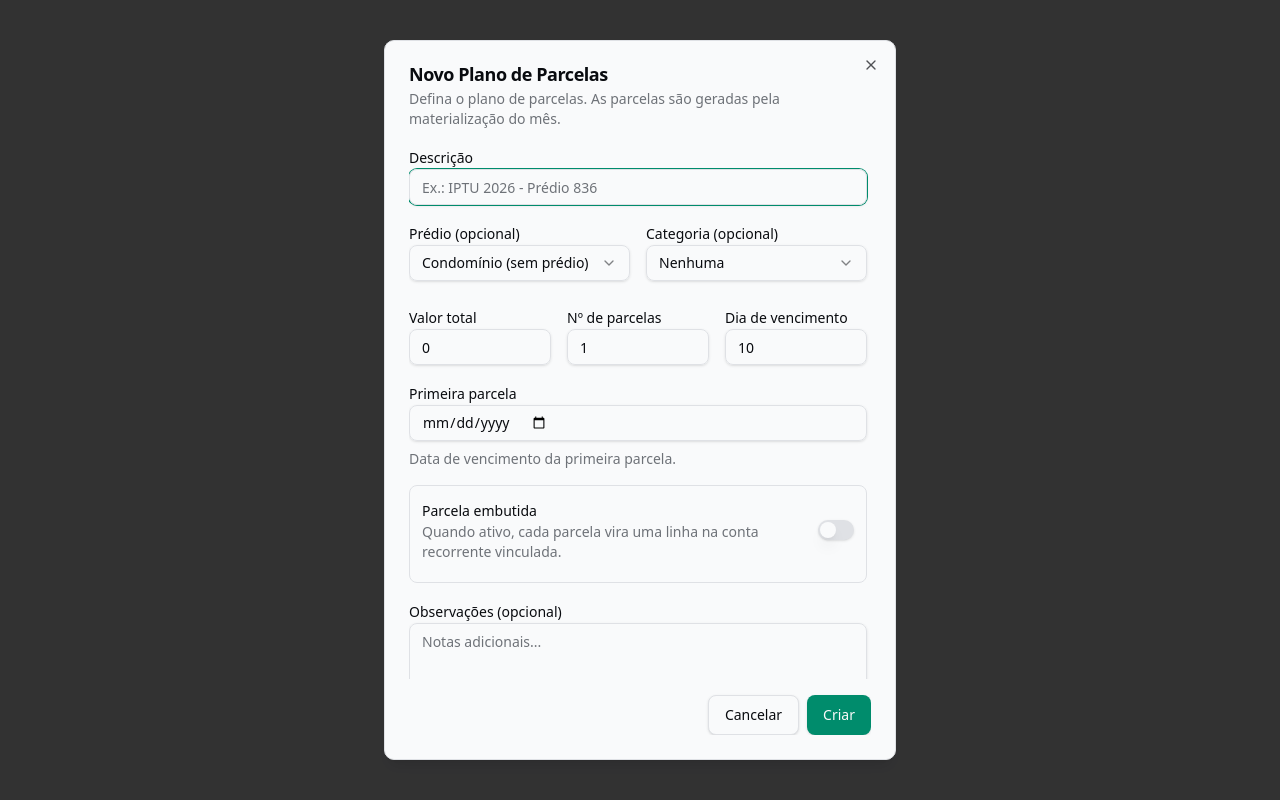
InstallmentPlanFormModal › reveals and requires the billing account when embedded is on
The width and height of the screenshot is (1280, 800).
Step 1. Type "Parcela embutida" into the field labelled "Descrição" → [638, 187], box top-left (409, 169), bottom-right (867, 205)
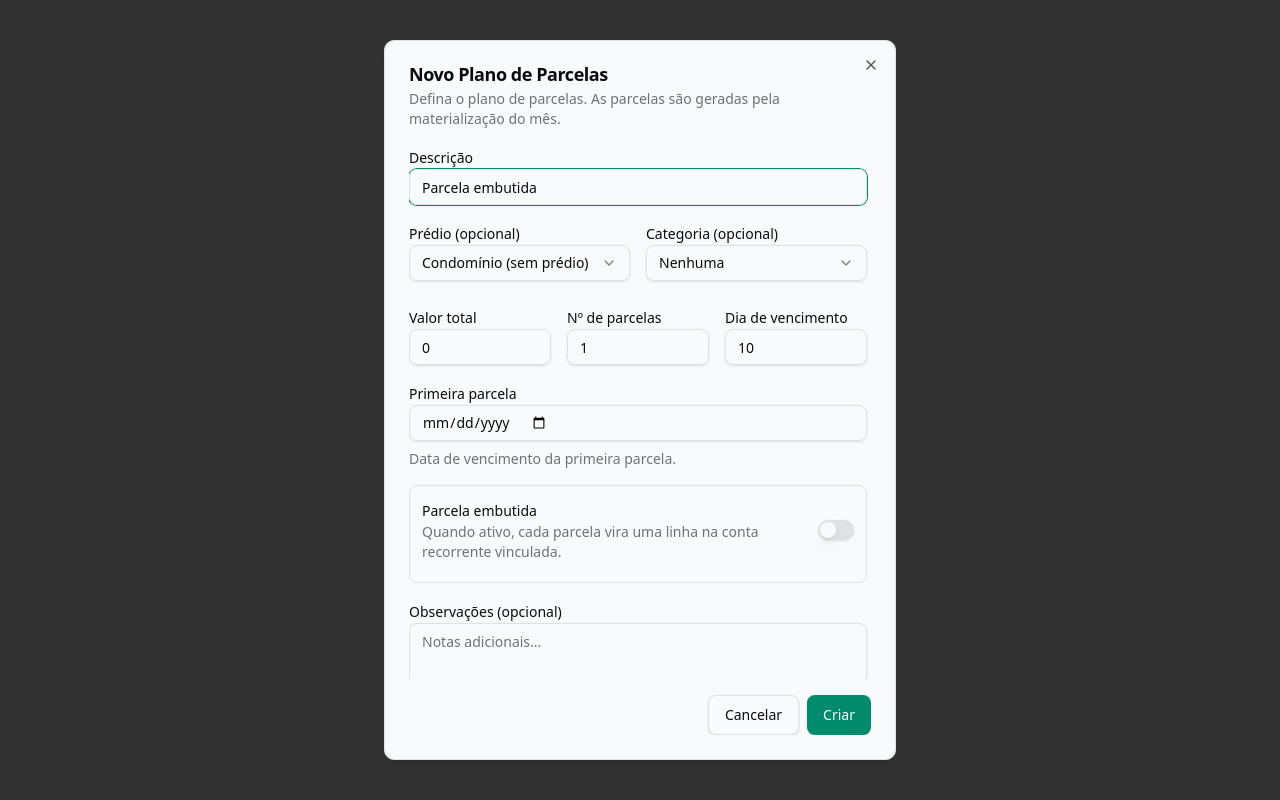
Step 2. Type "2026-07-10" into the date field labelled "Primeira parcela" → [638, 423], box top-left (409, 405), bottom-right (867, 441)
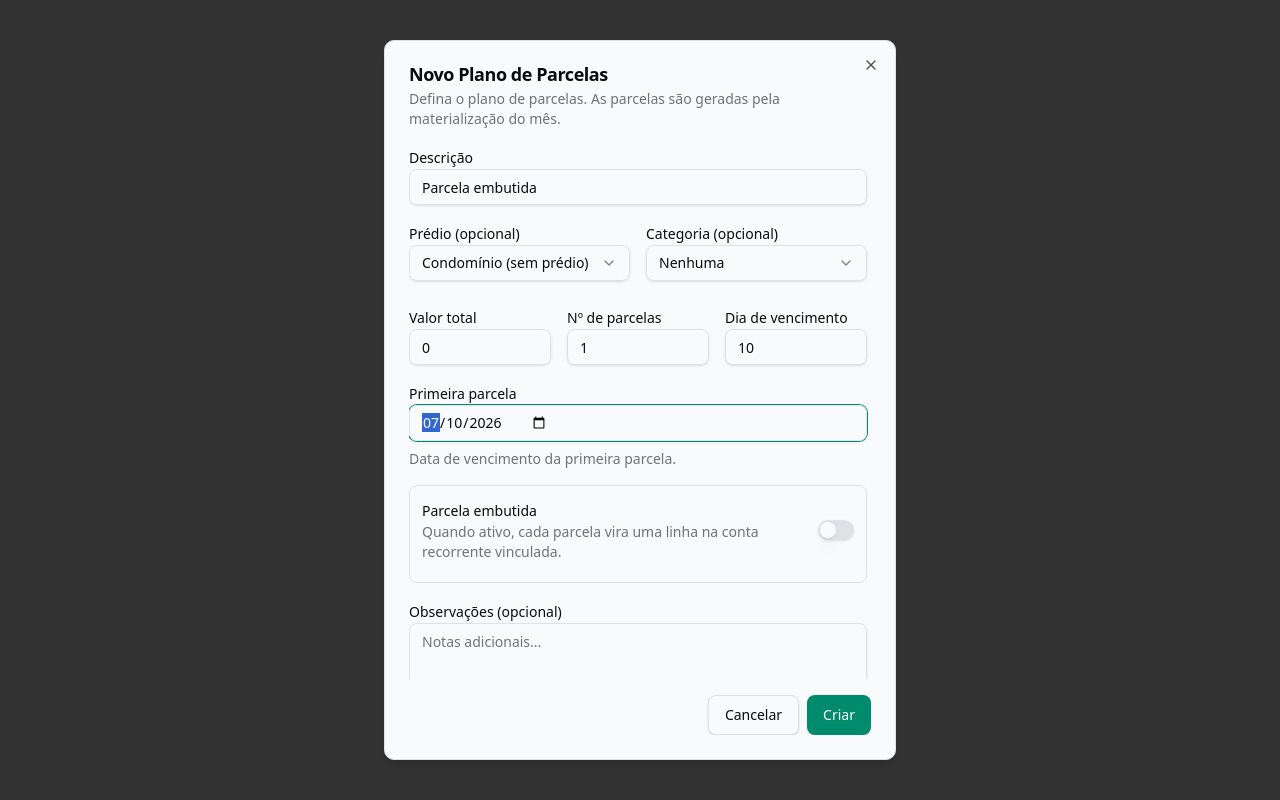
Step 3. Click the switch named "Parcela embutida" → [836, 530], box top-left (818, 520), bottom-right (854, 540)
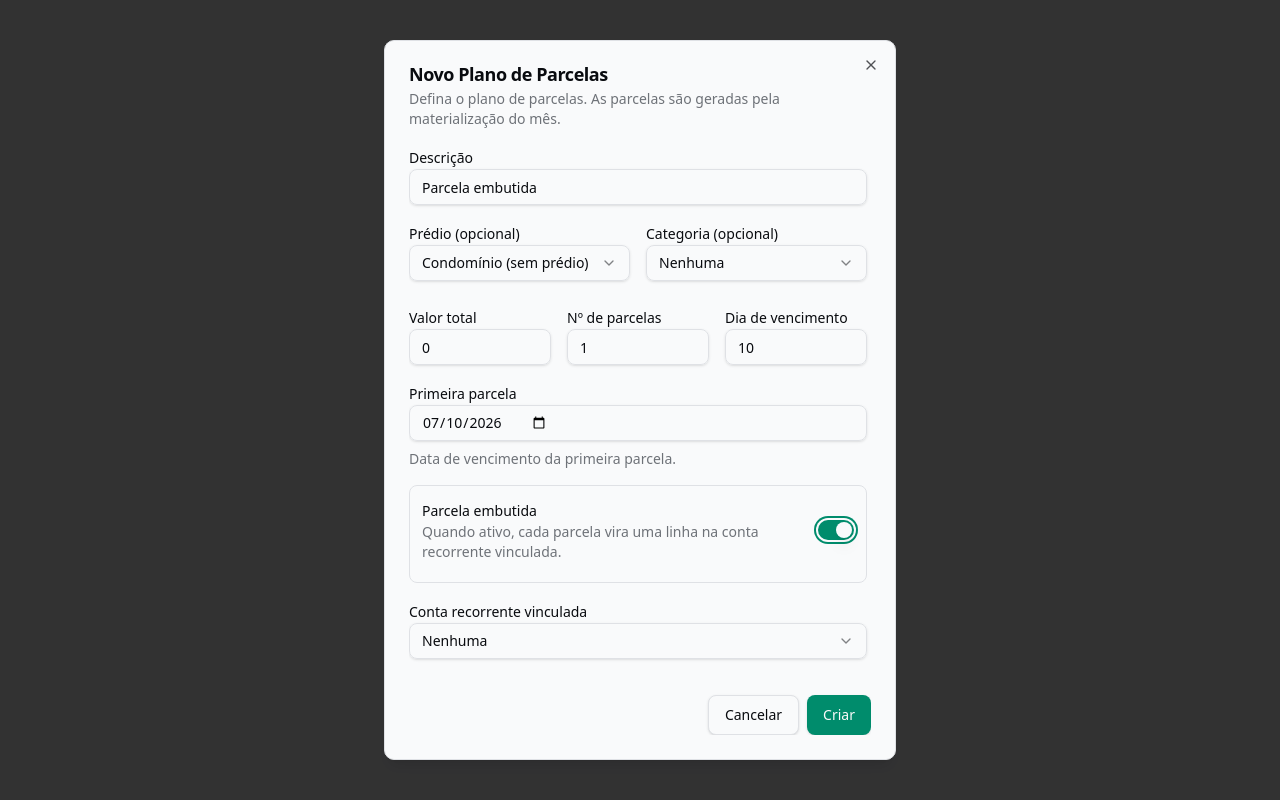
Check: the text "Conta recorrente vinculada" is shown, box top-left (409, 602), bottom-right (587, 621)
Step 4. Submit the form, box top-left (409, 145), bottom-right (871, 735)
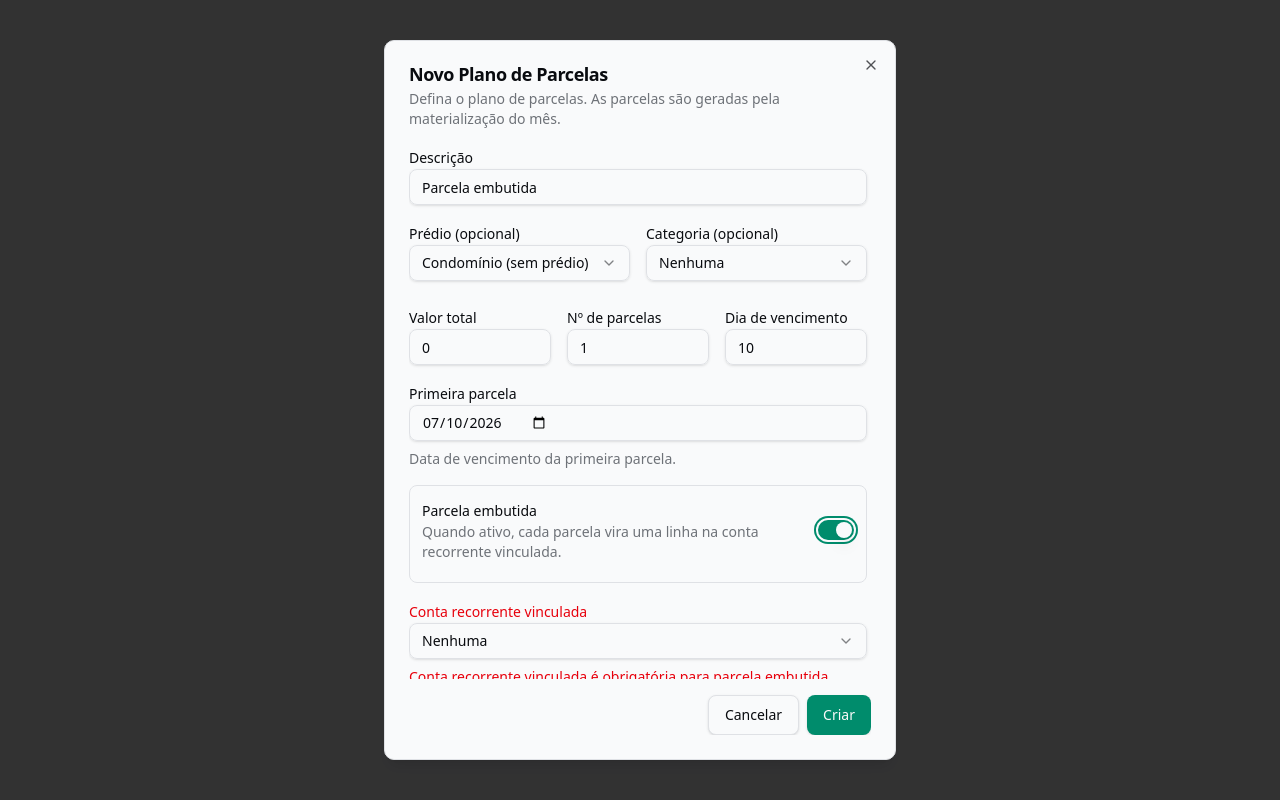
Check: the text "Conta recorrente vinculada é obrigatória para parcela embutida" is shown, box top-left (409, 667), bottom-right (867, 679)
